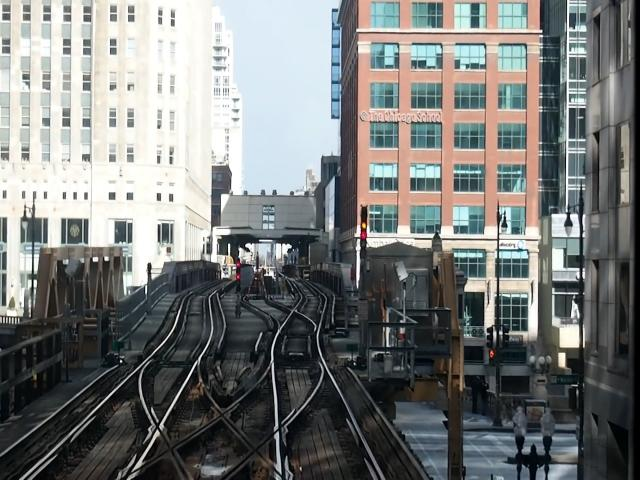signal light: (360, 204, 371, 264), (235, 259, 244, 295)
